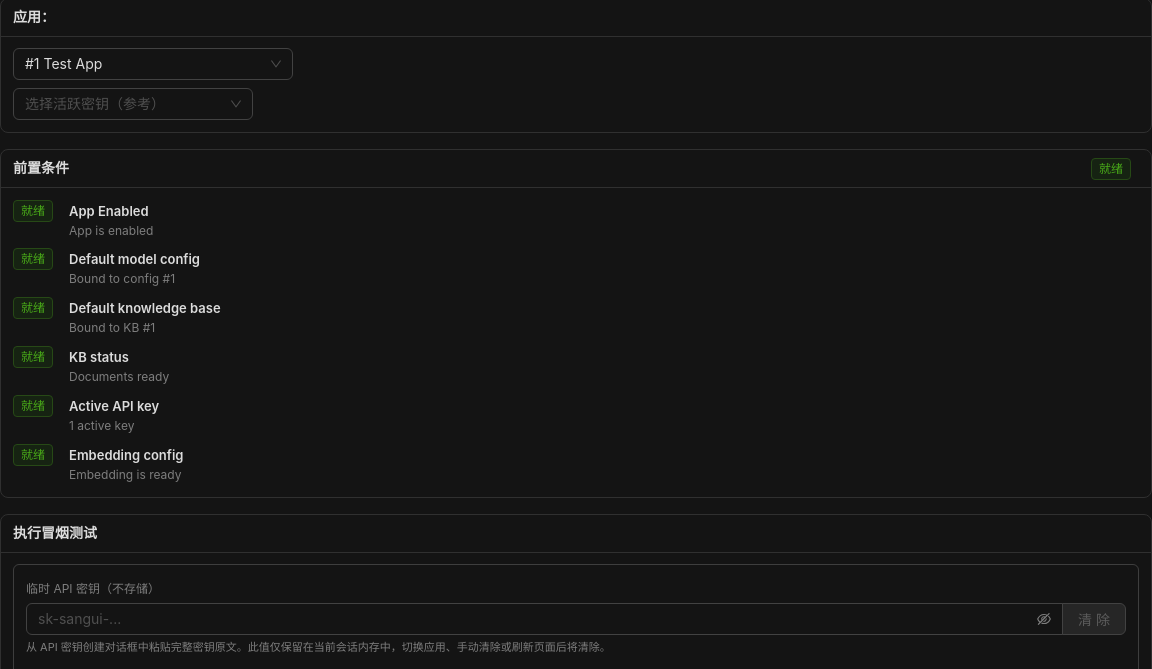
Test: SmokeTestPage › request-log validation flow › renders request-log evidence with safe metadata fields
The width and height of the screenshot is (1152, 669).
Expected: the text "前置条件" is shown, top-left (13, 159), bottom-right (69, 176)
In the password field with placeholder "sk-sangui-...": (536, 619) top-left (38, 608), bottom-right (1033, 630), type "sk-sangui-test-key-12345"
(page scrolled)
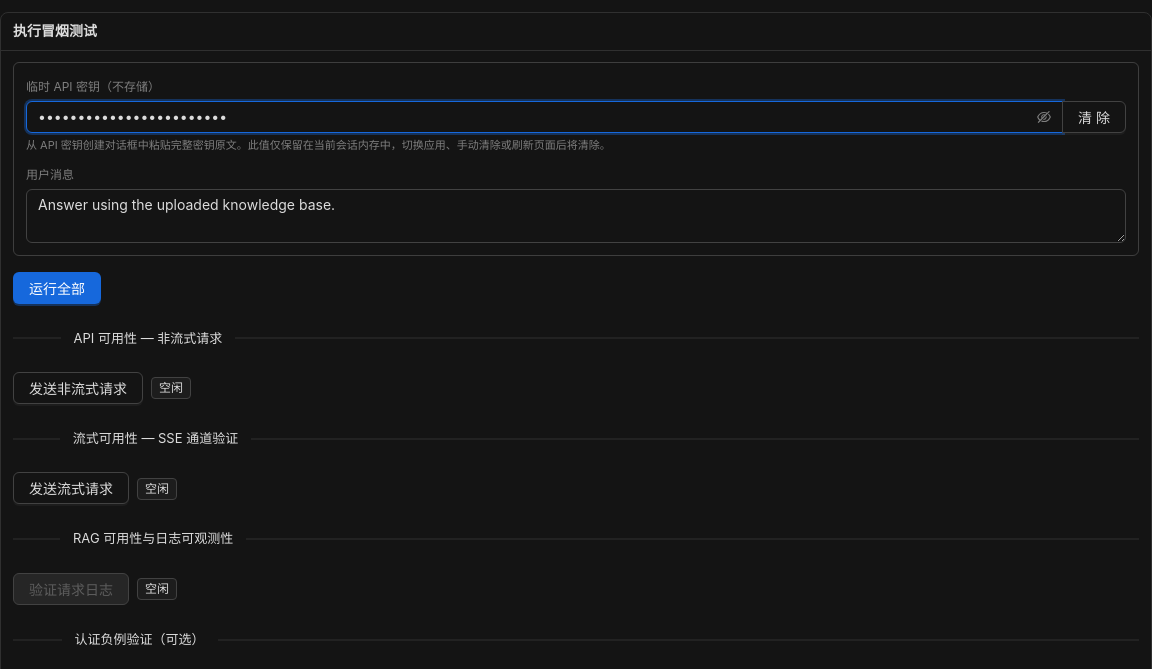
Click the button "发送非流式请求": (78, 388) top-left (13, 372), bottom-right (143, 404)
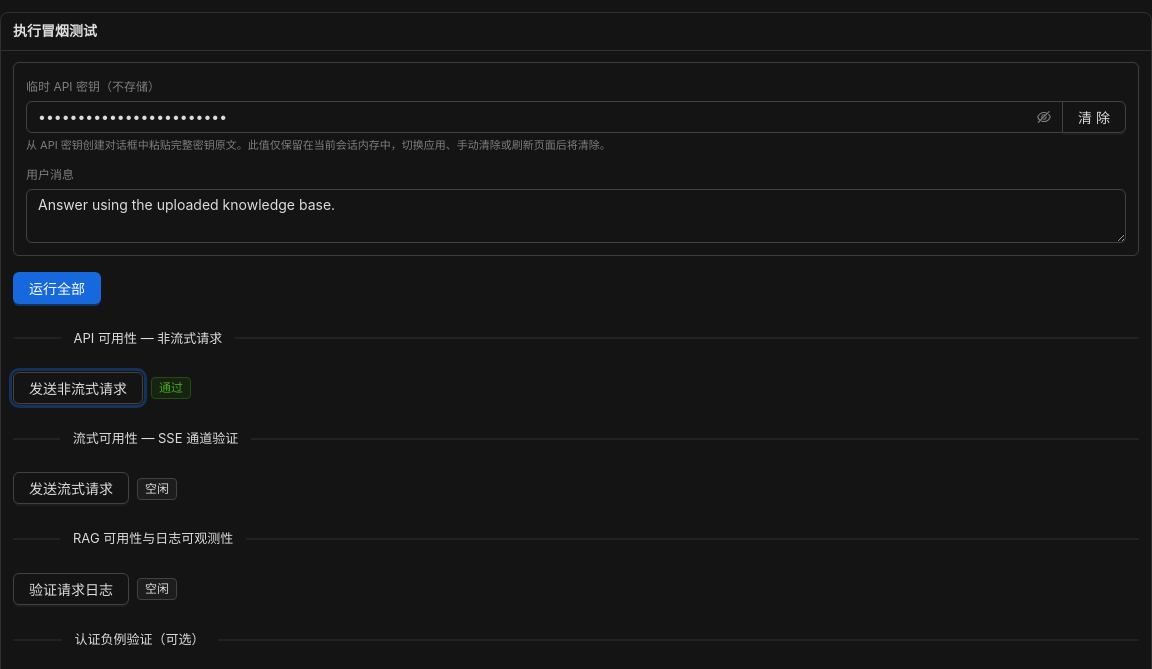
Expected: the button "验证请求日志" is enabled
Click the button "验证请求日志": (71, 589) top-left (13, 573), bottom-right (129, 605)
(page scrolled)
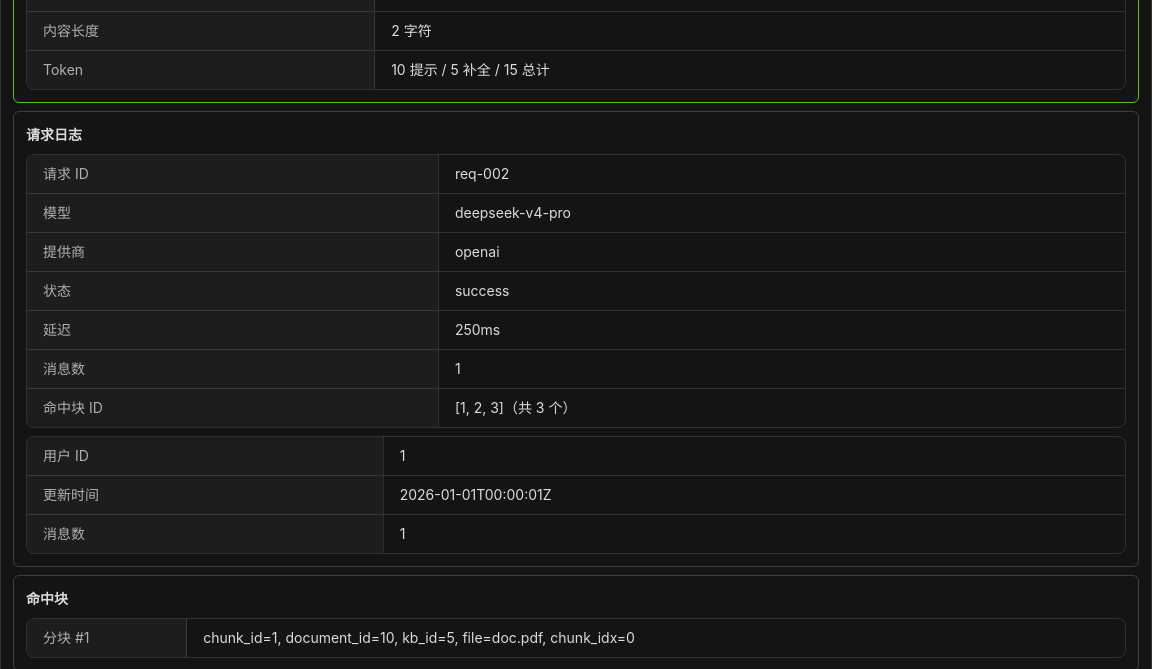
Expected: the text "req-002" is shown, top-left (455, 165), bottom-right (509, 182)
Expected: the text "openai" is shown, top-left (455, 243), bottom-right (500, 260)
Expected: the text "250ms" is shown, top-left (455, 321), bottom-right (500, 338)
